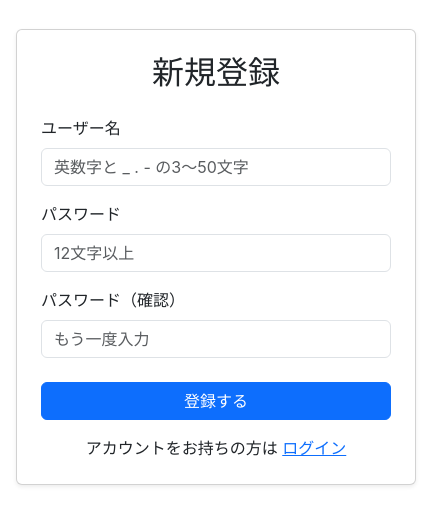
RegisterPage › 確認用パスワードが一致しなければ送信しない
The width and height of the screenshot is (433, 517).
Step 1. Type "new_user" into the field labelled "ユーザー名" → (216, 167), box 41,148 -> 391,186
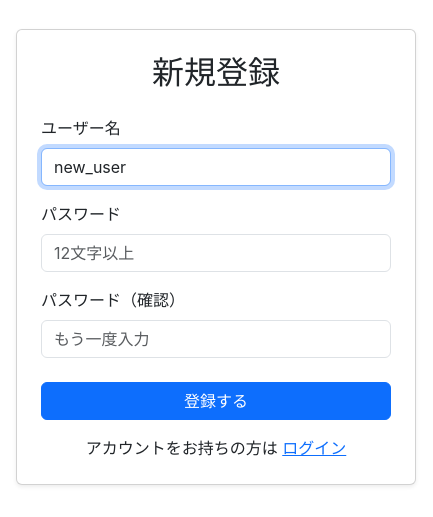
Step 2. Type "abcdefghijkl" into the password field labelled "パスワード" → (216, 253), box 41,234 -> 391,272
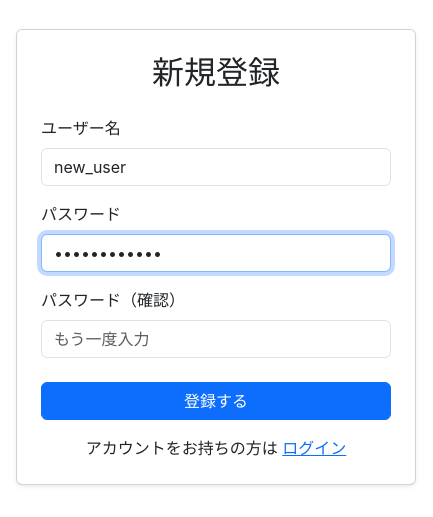
Step 3. Type "abcdefghijkX" into the password field labelled "パスワード（確認）" → (216, 339), box 41,320 -> 391,358
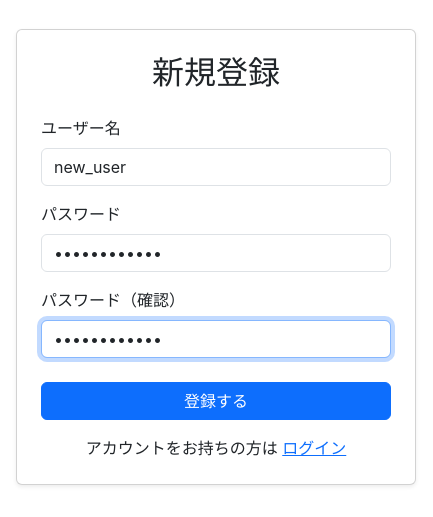
Step 4. Click the button "登録する" → (216, 401), box 41,382 -> 391,420
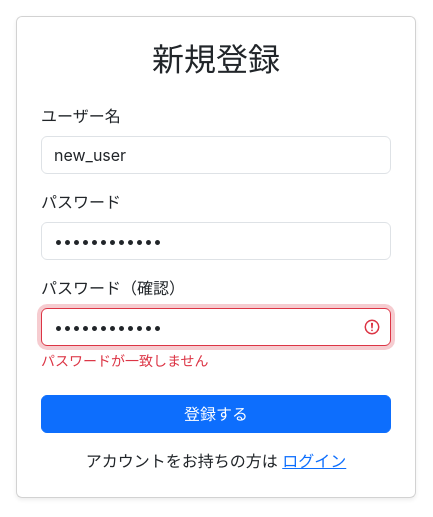
Result: the text "パスワードが一致しません" is shown at 41,352 -> 209,369
